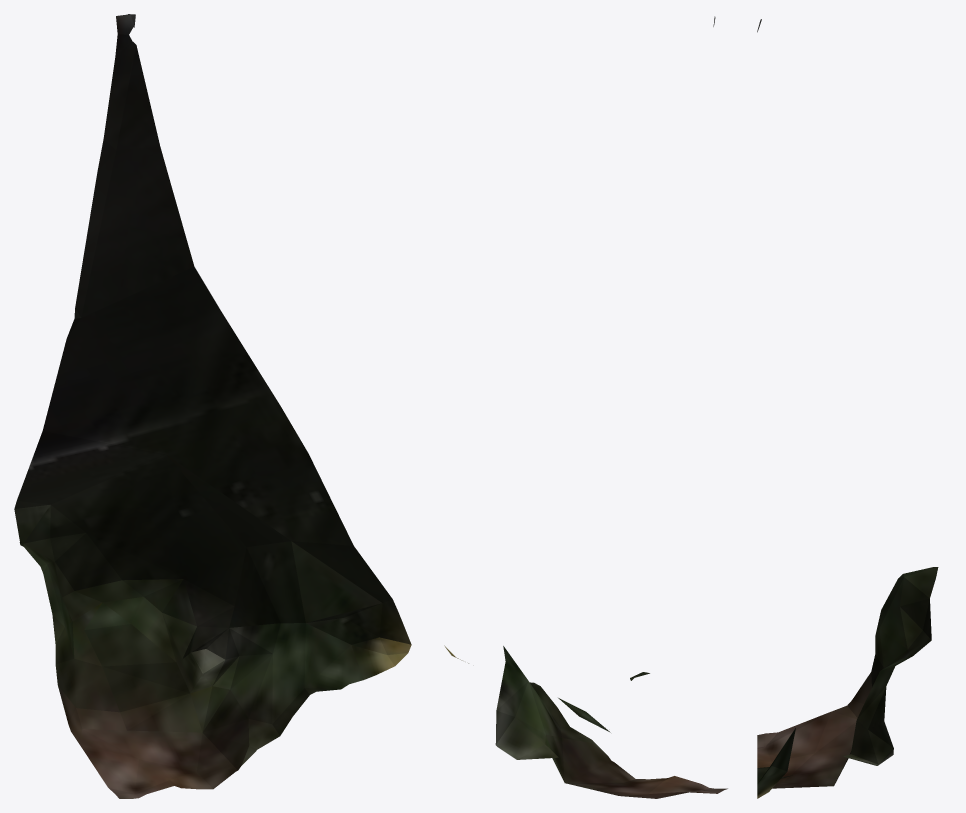
3 renders of one model, left to right at view 1: azimuth 30°, elevation 25°; view 2: azimuth 150°, elevation 25°; view 3: azimuth 270°, elevation 25°, orthographic. The views are drawn at different scales.
Bounding box in the file's own units: 0.2687 × 0.6972 × 0.1673.
1 material, 1 textured.
